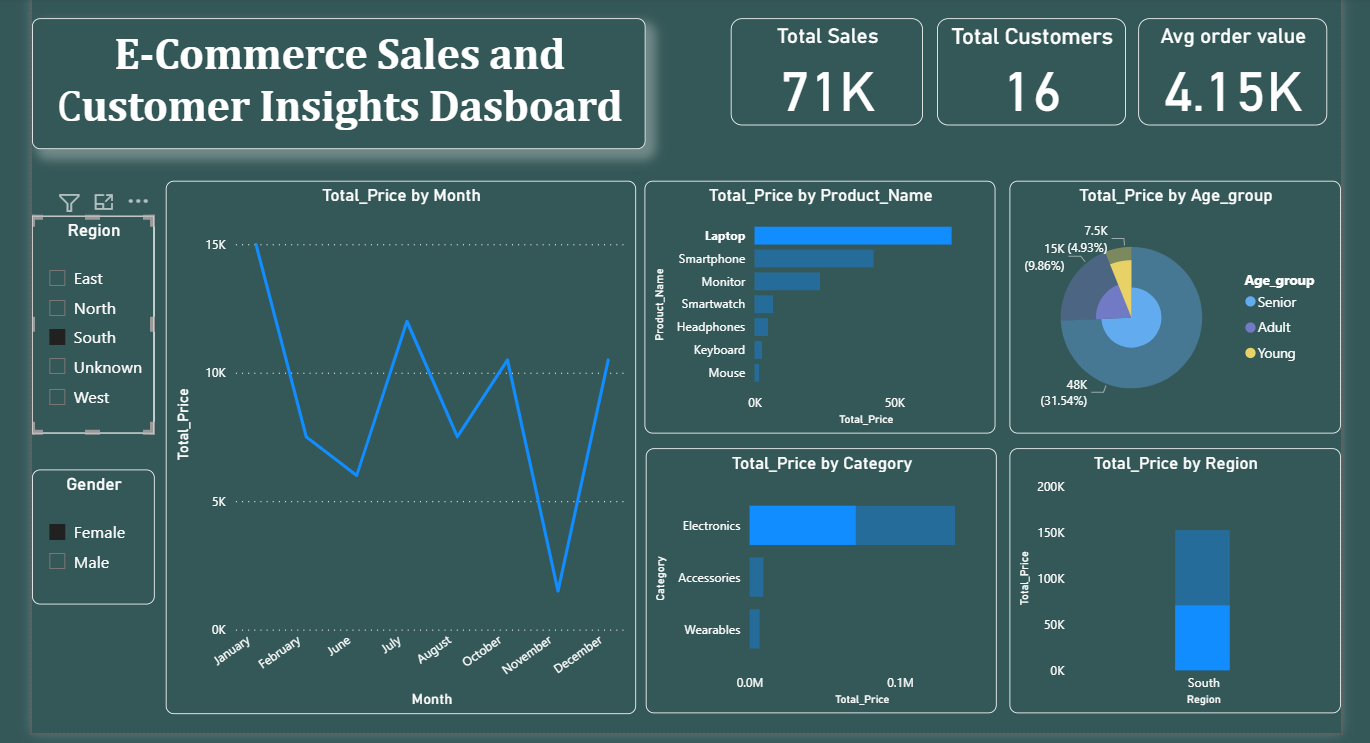

The dashboard page shown, as its layout file describes it:
{"tool":"powerbi","page":{"name":"Page 1","canvas":[1280,720],"ordinal":0},"visuals":[{"type":"card","title":"Total Sales","fields":{"Values":["Sum(ecommerce_db ecommerce_data.Total_Price)"]},"box":[683.3,20.8,188.3,105.1],"z":0},{"type":"card","title":"Total Customers","fields":{"Values":["ecommerce_db ecommerce_data.total customer"]},"box":[885,20.8,184.6,105.1],"z":1000},{"type":"card","title":"Avg order value","fields":{"Values":["ecommerce_db ecommerce_data.Avgorder"]},"box":[1081.8,20.8,184.6,105.1],"z":2000},{"type":"clusteredBarChart","fields":{"Category":["ecommerce_db ecommerce_data.Category"],"Y":["Sum(ecommerce_db ecommerce_data.Total_Price)"]},"box":[600.2,441.3,343.5,259.2],"z":3000},{"type":"clusteredColumnChart","fields":{"Category":["ecommerce_db ecommerce_data.Region"],"Y":["Sum(ecommerce_db ecommerce_data.Total_Price)"]},"box":[955.9,441.3,323.9,259.2],"z":4000},{"type":"clusteredBarChart","fields":{"Category":["ecommerce_db ecommerce_data.Product_Name"],"Y":["Sum(ecommerce_db ecommerce_data.Total_Price)"]},"box":[599,179.7,343.5,246.9],"z":5000},{"type":"pieChart","fields":{"Category":["ecommerce_db ecommerce_data.Age_group"],"Y":["Sum(ecommerce_db ecommerce_data.Total_Price)"]},"box":[955.9,179.7,323.9,246.9],"z":6000},{"type":"lineChart","fields":{"Y":["Sum(ecommerce_db ecommerce_data.Total_Price)"],"Category":["ecommerce_db ecommerce_data.Month_Year.Variation.Date Hierarchy.Month"]},"box":[130.8,179.7,459.6,522],"z":7000},{"type":"textbox","box":[0,20.8,600.2,128.4],"z":8000},{"type":"slicer","title":"Region","fields":{"Values":["ecommerce_db ecommerce_data.Region"]},"box":[0,213.9,119.8,212.7],"z":9000},{"type":"slicer","title":"Gender","fields":{"Values":["ecommerce_db ecommerce_data.Gender"]},"box":[0,462.1,119.8,132],"z":9001}]}

Visuals, with their boxes in screenshot pixels (x1, y1, x2, y2):
"Total Sales" card: (x1=727, y1=14, x2=918, y2=121)
"Total Customers" card: (x1=932, y1=14, x2=1119, y2=121)
"Avg order value" card: (x1=1132, y1=14, x2=1319, y2=121)
clusteredBarChart - ecommerce_db ecommerce_data.Category x Sum(ecommerce_db ecommerce_data.Total_Price): (x1=642, y1=441, x2=991, y2=705)
clusteredColumnChart - ecommerce_db ecommerce_data.Region x Sum(ecommerce_db ecommerce_data.Total_Price): (x1=1004, y1=441, x2=1333, y2=705)
clusteredBarChart - ecommerce_db ecommerce_data.Product_Name x Sum(ecommerce_db ecommerce_data.Total_Price): (x1=641, y1=176, x2=990, y2=426)
pieChart - ecommerce_db ecommerce_data.Age_group x Sum(ecommerce_db ecommerce_data.Total_Price): (x1=1004, y1=176, x2=1333, y2=426)
lineChart - Sum(ecommerce_db ecommerce_data.Total_Price) x ecommerce_db ecommerce_data.Month_Year.Variation.Date Hierarchy.Month: (x1=165, y1=176, x2=632, y2=706)
textbox: (x1=32, y1=14, x2=642, y2=145)
"Region" slicer: (x1=32, y1=210, x2=154, y2=426)
"Gender" slicer: (x1=32, y1=463, x2=154, y2=597)
